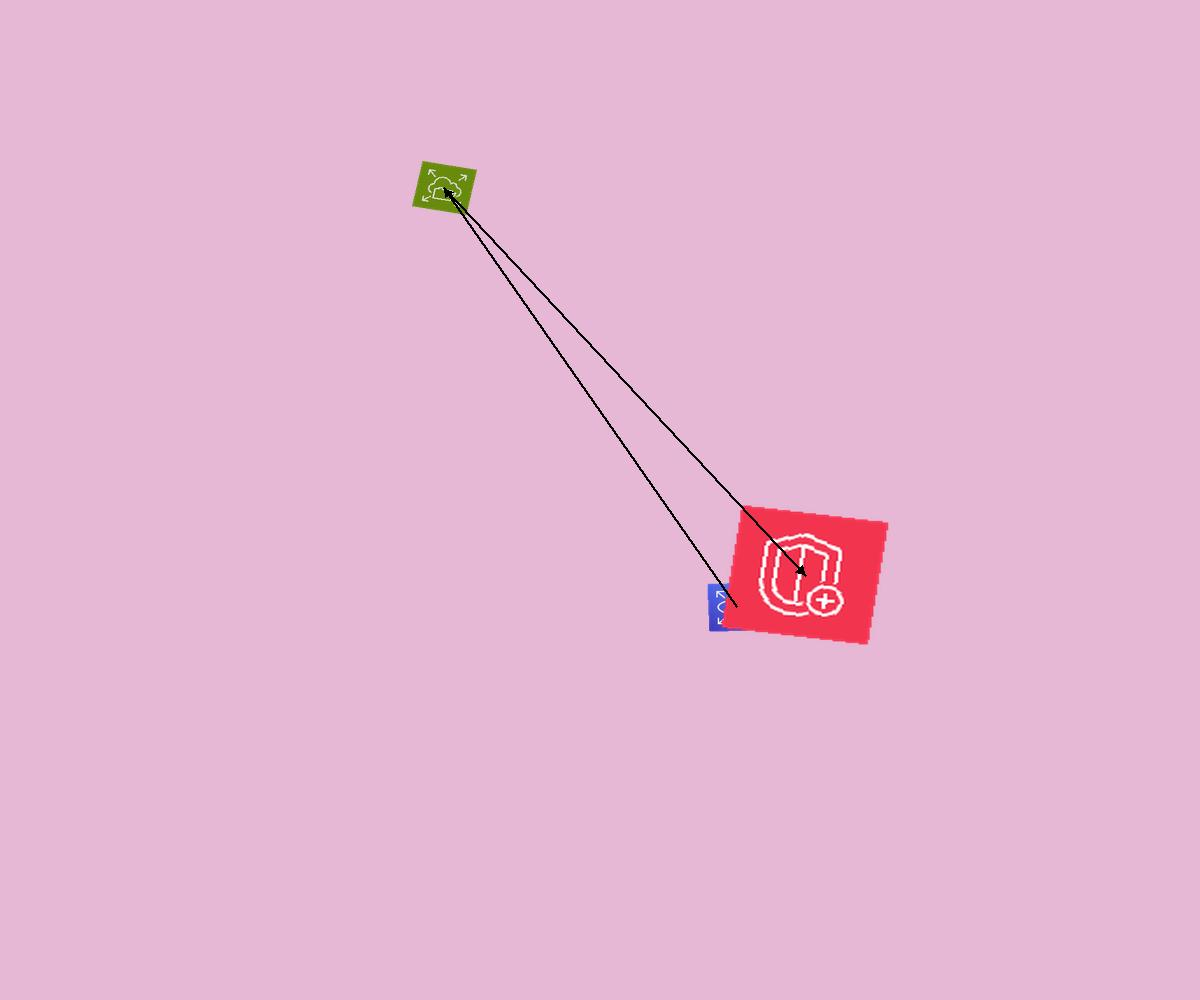AWS-EFS: (412, 161, 477, 215)
AWS-RDS: (707, 582, 767, 632)
AWS-Shield: (720, 504, 890, 646)
